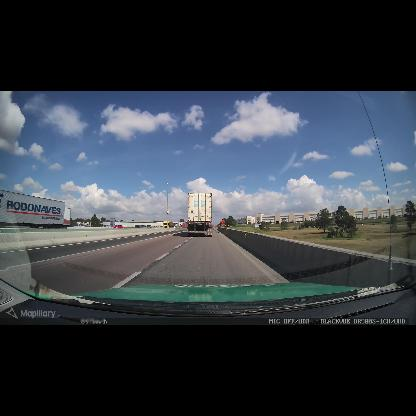A-24: (221, 219, 226, 224)
